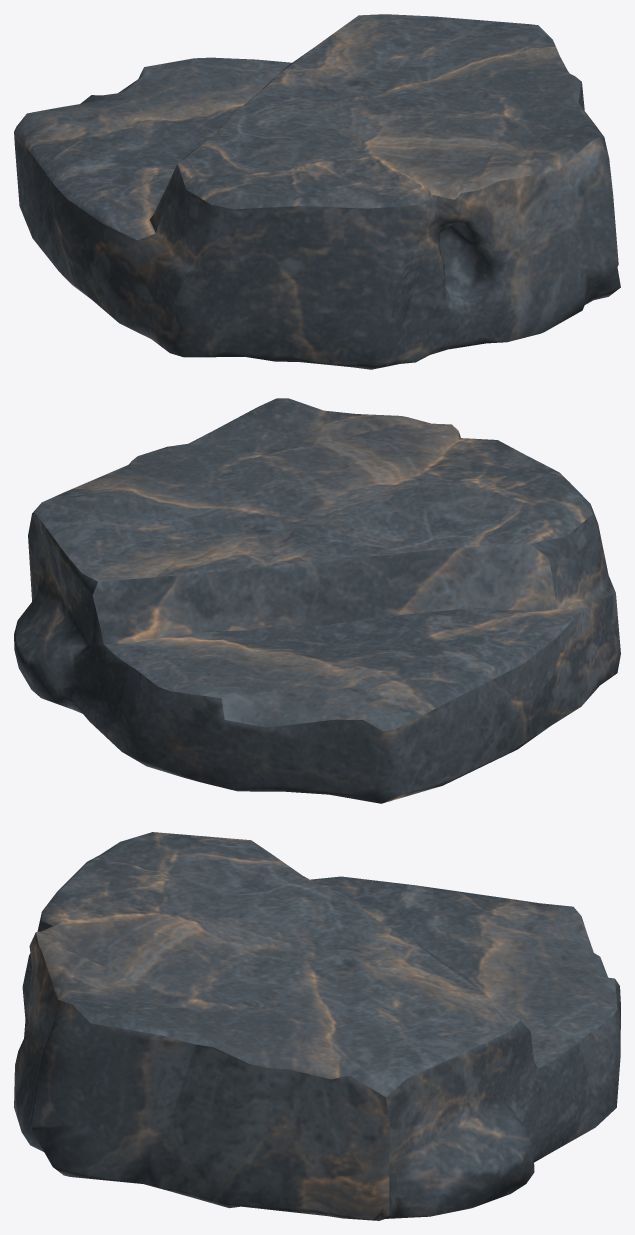
Rendered from Rocher02_low_LOD1.fbx.
3 views of the same model, one above another, from view 1: azimuth 30°, elevation 25°; view 2: azimuth 150°, elevation 25°; view 3: azimuth 270°, elevation 25° (orthographic). The views are drawn at different scales.
Parts seen in each view (by area): view 1: Rocher02_low_0; view 2: Rocher02_low_0; view 3: Rocher02_low_0.
Part boxes in pixels (x1,y1,x2,y2): Rocher02_low_0: (14,14,620,369); Rocher02_low_0: (14,398,620,803); Rocher02_low_0: (14,832,620,1220).
Bounding box in the file's own units: 28.53 × 9.07 × 28.66.
1 material, 1 textured.
